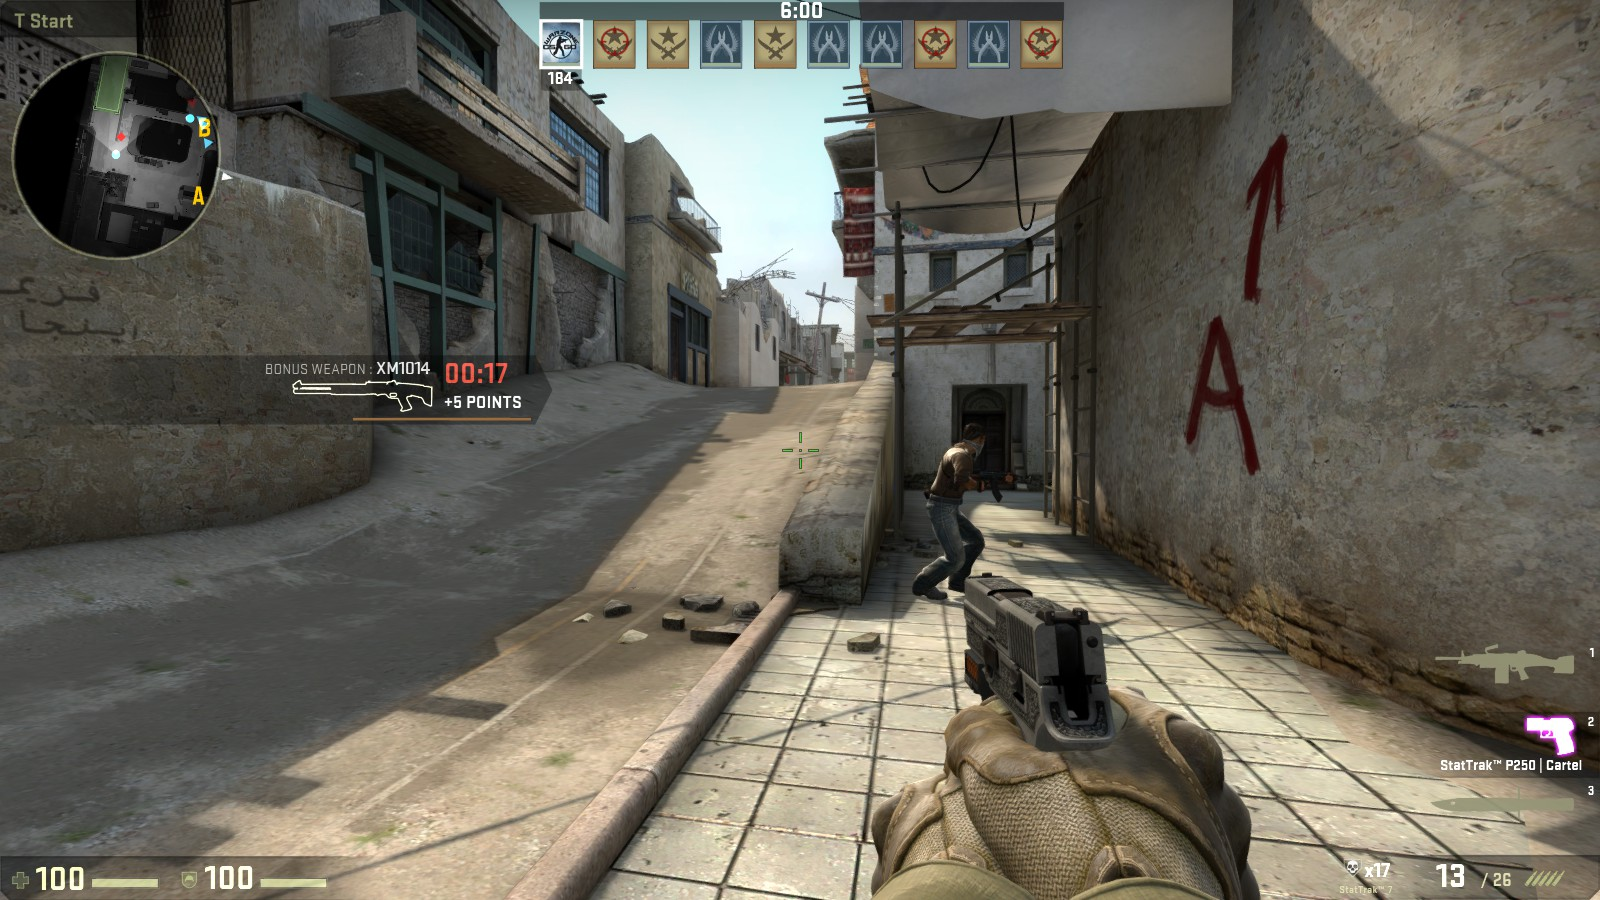t: (915, 421, 991, 600)
th: (959, 421, 989, 462)
